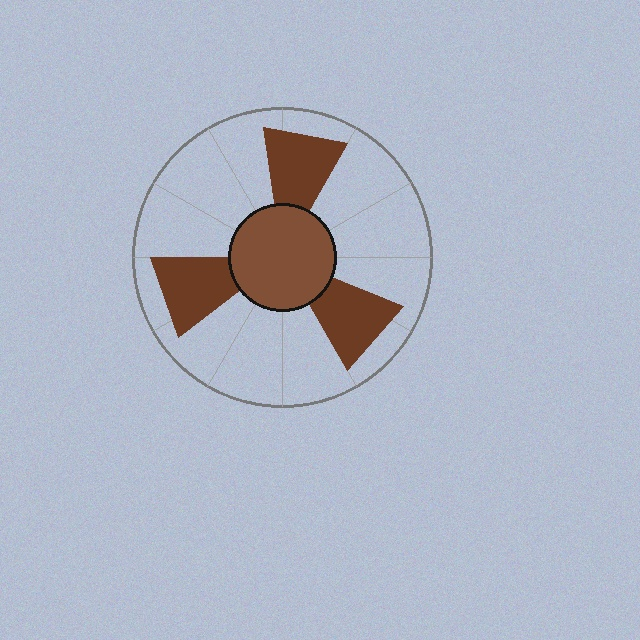fan: (128, 103, 436, 411)
